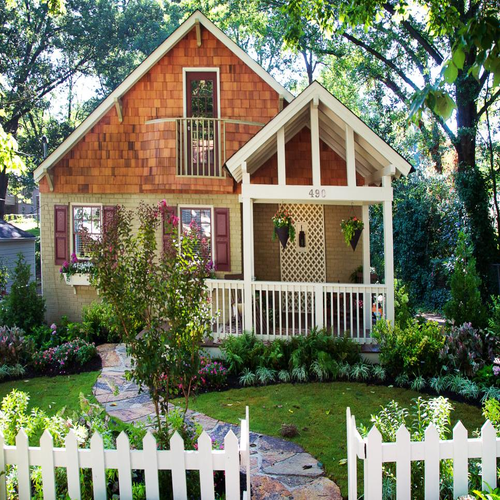Tin-shade House: (18, 22, 426, 344)
